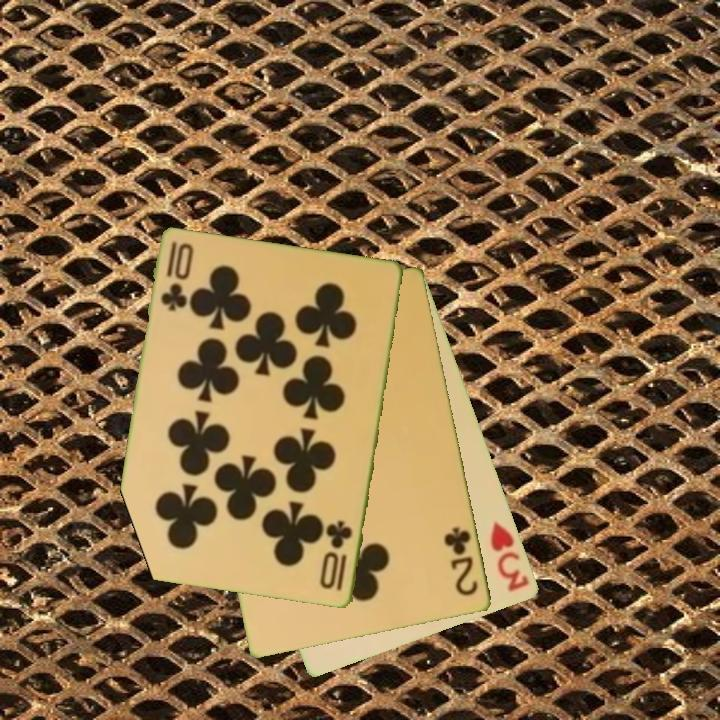10c: (317, 517, 356, 595), (157, 238, 188, 315)
2c: (441, 523, 482, 599)
3h: (487, 518, 533, 595)
